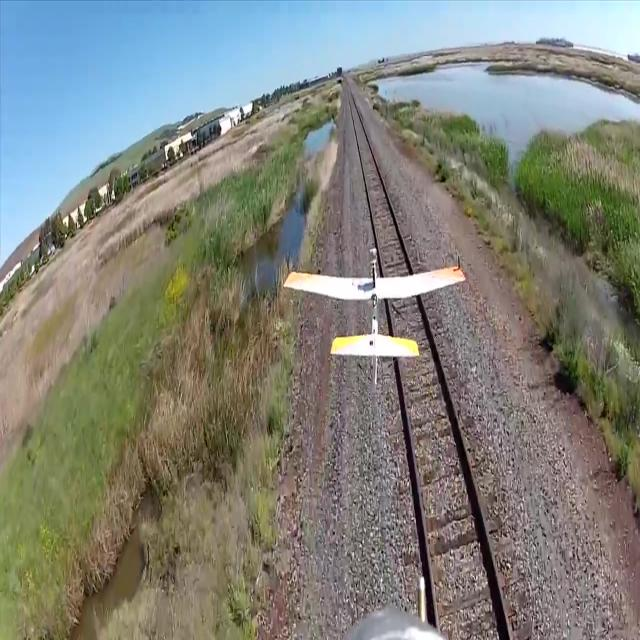iha: (282, 250, 467, 384)
